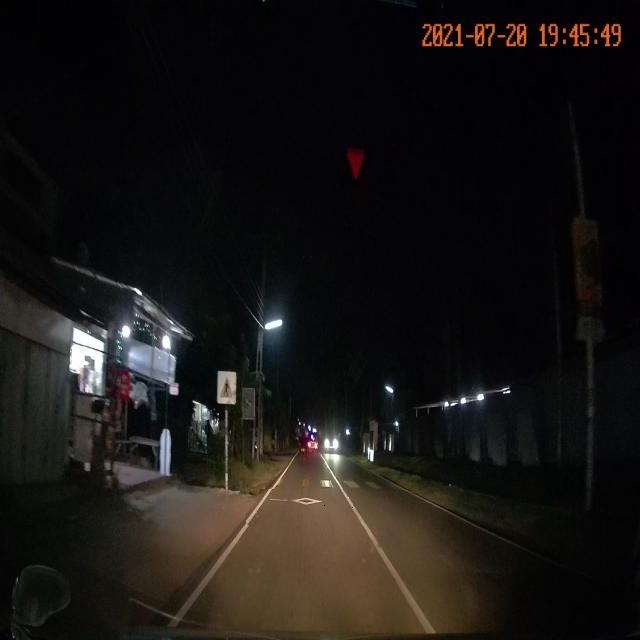diamond: (247, 490, 368, 525)
